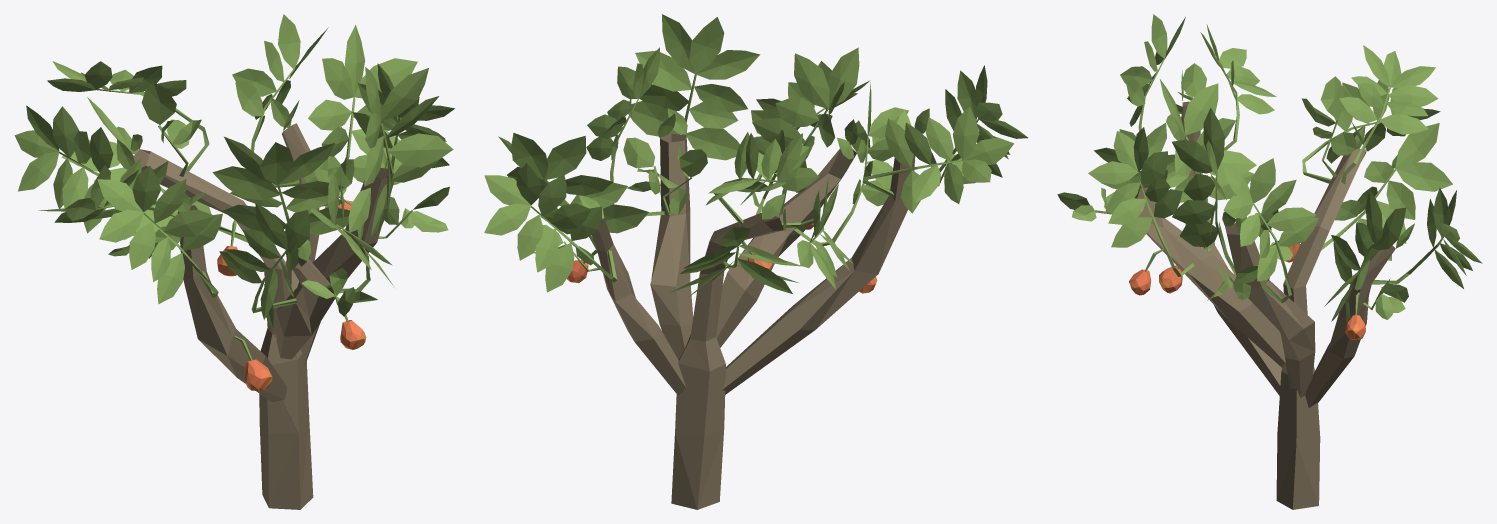
File: Apple_5_4.fbx
3 renders of one model, left to right at view 1: azimuth 30°, elevation 25°; view 2: azimuth 150°, elevation 25°; view 3: azimuth 270°, elevation 25°, orthographic. The views are drawn at different scales.
Parts seen in each view (by area): view 1: Apple_5_4; view 2: Apple_5_4; view 3: Apple_5_4.
Boxes of the visible parts, <box> form: Apple_5_4: <box>14,14,454,509</box>; Apple_5_4: <box>484,14,1028,509</box>; Apple_5_4: <box>1057,14,1482,509</box>.
Bounding box in the file's own units: 367 × 363 × 345.
